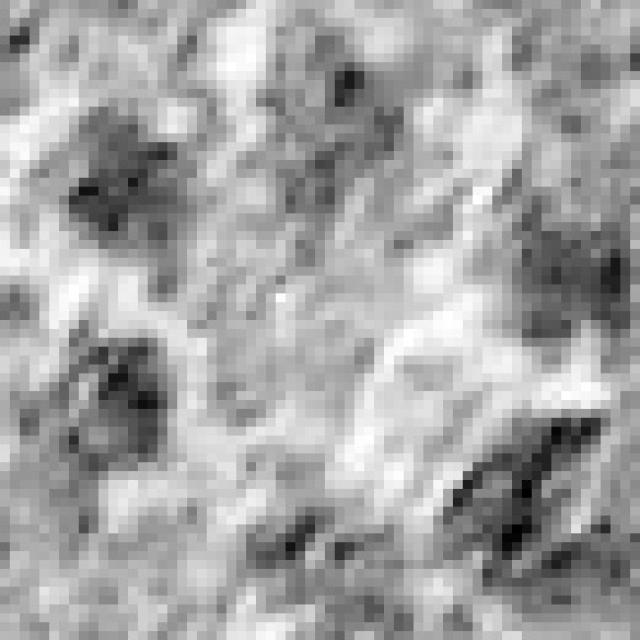inner: (177, 227, 520, 464)
lobe: (230, 436, 486, 640), (426, 405, 638, 614), (18, 97, 214, 309), (235, 12, 409, 227), (467, 164, 640, 345), (24, 327, 197, 477)
outer: (0, 0, 638, 640)
